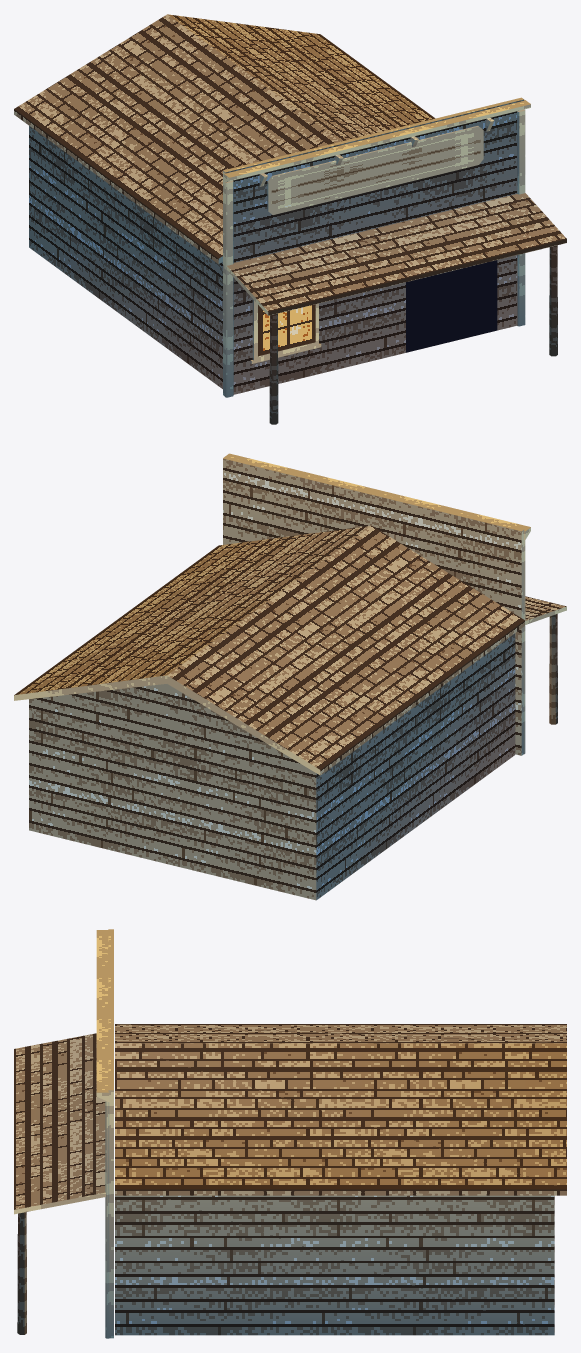
Rendered from wtown.store__entry.glb.
The picture shows the model from 3 angles, top to bottom: view 1: azimuth 30°, elevation 25°; view 2: azimuth 150°, elevation 25°; view 3: azimuth 270°, elevation 25°; orthographic projection. The views are drawn at different scales.
Visible parts, largest first — view 1: kit_roof, kit_front, kit_body, kit_porch, kit_card_panes, kit_trim, kit_windows; view 2: kit_body, kit_roof, kit_front, kit_trim, kit_porch; view 3: kit_roof, kit_body, kit_porch, kit_trim, kit_front.
Part boxes in pixels (x1=…): kit_roof: x1=14, y1=14, x2=435, y2=264; kit_front: x1=223, y1=97, x2=524, y2=395; kit_body: x1=29, y1=126, x2=222, y2=388; kit_porch: x1=226, y1=193, x2=566, y2=424; kit_card_panes: x1=258, y1=129, x2=497, y2=356; kit_trim: x1=223, y1=100, x2=530, y2=397; kit_windows: x1=250, y1=299, x2=321, y2=363; kit_body: x1=29, y1=633, x2=515, y2=900; kit_roof: x1=14, y1=525, x2=524, y2=775; kit_front: x1=223, y1=456, x2=524, y2=755; kit_trim: x1=224, y1=453, x2=530, y2=754; kit_porch: x1=525, y1=596, x2=566, y2=724; kit_roof: x1=115, y1=1024, x2=566, y2=1195; kit_body: x1=115, y1=1195, x2=554, y2=1335; kit_porch: x1=14, y1=1033, x2=105, y2=1334; kit_trim: x1=96, y1=930, x2=109, y2=1338; kit_front: x1=108, y1=929, x2=113, y2=1338.
Bounding box in the file's own units: 8 × 5.6 × 11.32.
7 materials, 7 textured.
